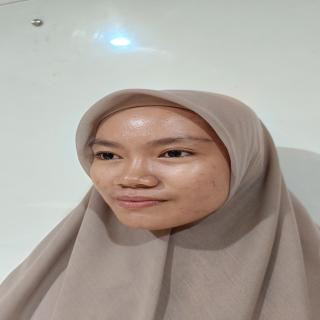Netral: (81, 95, 244, 239)
